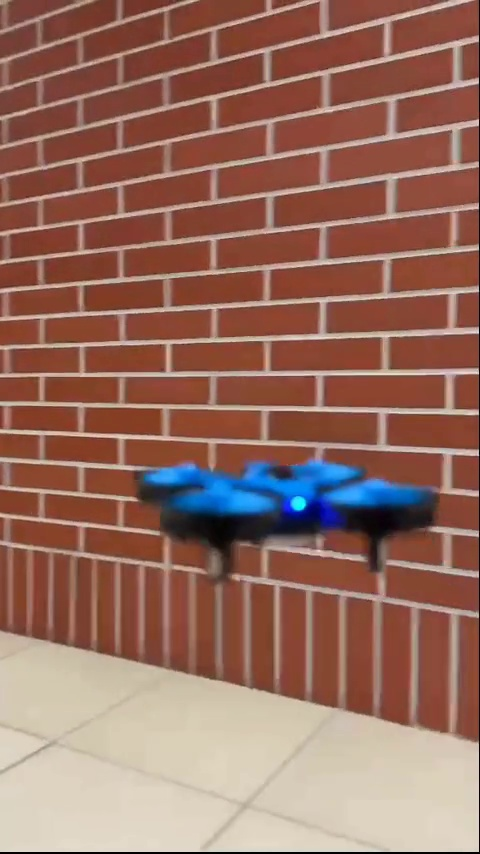drone: (131, 454, 442, 583)
